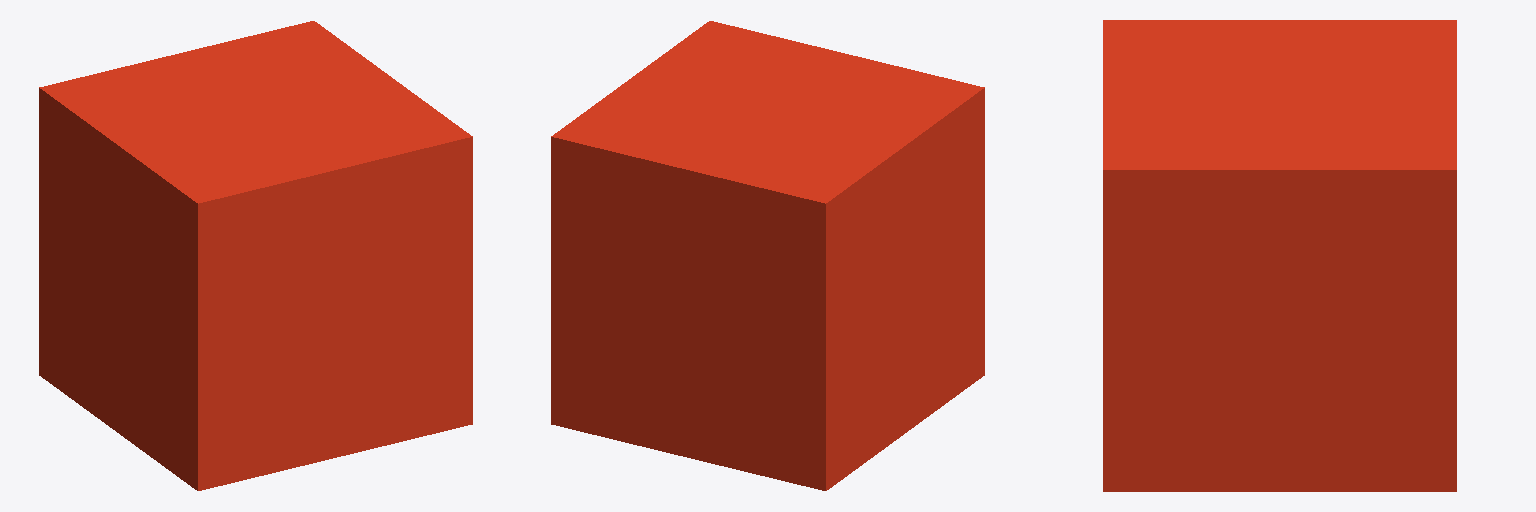
URDF robot description (cube.urdf):
<?xml version="1.0" ?>
<robot name="cube.urdf">
  <material name="color">
    <color rgba=".93 .294 .169 1"/>
  </material>

  <link name="cube">
    <contact>
      <rolling_friction value="1.0"/>
      <lateral_friction value="1.0"/>
      <spinning_friction value="1.0"/>
      <inertia_scaling value="1.0"/>
    </contact>
    <inertial>
      <origin rpy="0 0 0" xyz="0.0 0.02 0.0"/>
       <mass value="1"/>
       <inertia ixx="1" ixy="0" ixz="0" iyy="1" iyz="0" izz="1"/>
    </inertial>
    <visual>
      <origin rpy="0 0 0" xyz="0 0 0"/>
      <geometry>
        <box size="1 1 1"/>
      </geometry>
      <material name="color"/>
    </visual>
    <collision>
      <origin rpy="0 0 0" xyz="0 0 0"/>
      <geometry>
        <box size="1 1 1"/>
      </geometry>
    </collision>
  </link>
</robot>

--- What the picture shows (computed from the rendered views, not written in the file) ---
Views: 3 orthographic renders of the robot side by side, from view 1: azimuth 30°, elevation 25°; view 2: azimuth 150°, elevation 25°; view 3: azimuth 270°, elevation 25°.
Model cube.urdf with 1 links and 0 joints (none), rooted at cube, posed every joint at zero.
Visible links, largest first — view 1: cube; view 2: cube; view 3: cube.
Boxes of the visible links, bbox=[...] form: cube: bbox=[39, 21, 472, 490]; cube: bbox=[551, 21, 984, 490]; cube: bbox=[1103, 20, 1456, 491].
Bounding box of the posed robot: 1 × 1 × 1 m (x, y, z).
Geometry: primitives only (box / cylinder / sphere), no mesh files.